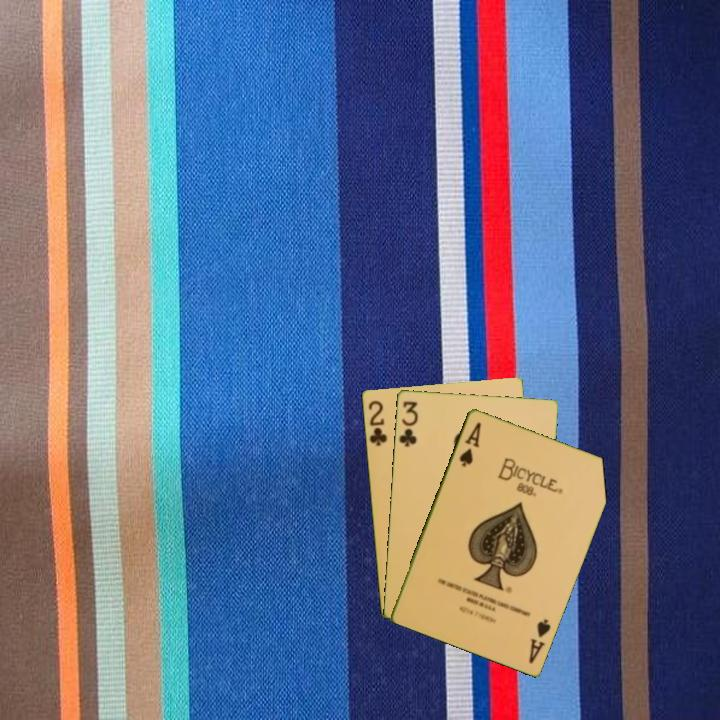2c: (365, 397, 389, 449)
3c: (395, 397, 420, 449)
As: (455, 418, 484, 469), (525, 615, 553, 666)
